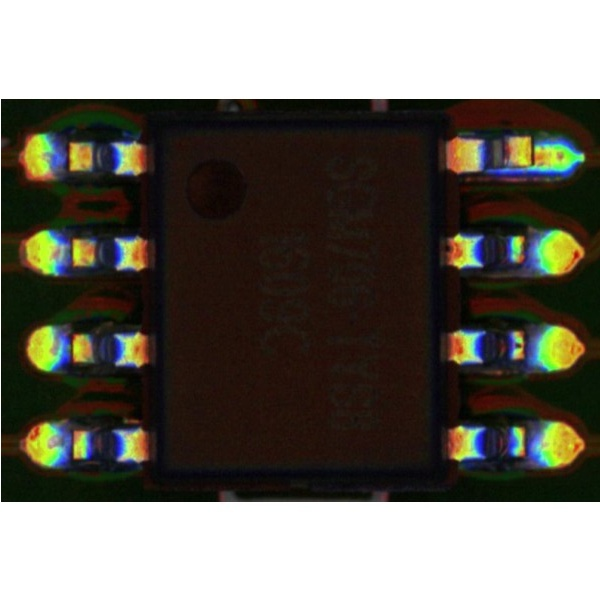Bad_podu: (523, 146, 541, 165)
Bad_qiaojiao: (481, 167, 531, 175)
